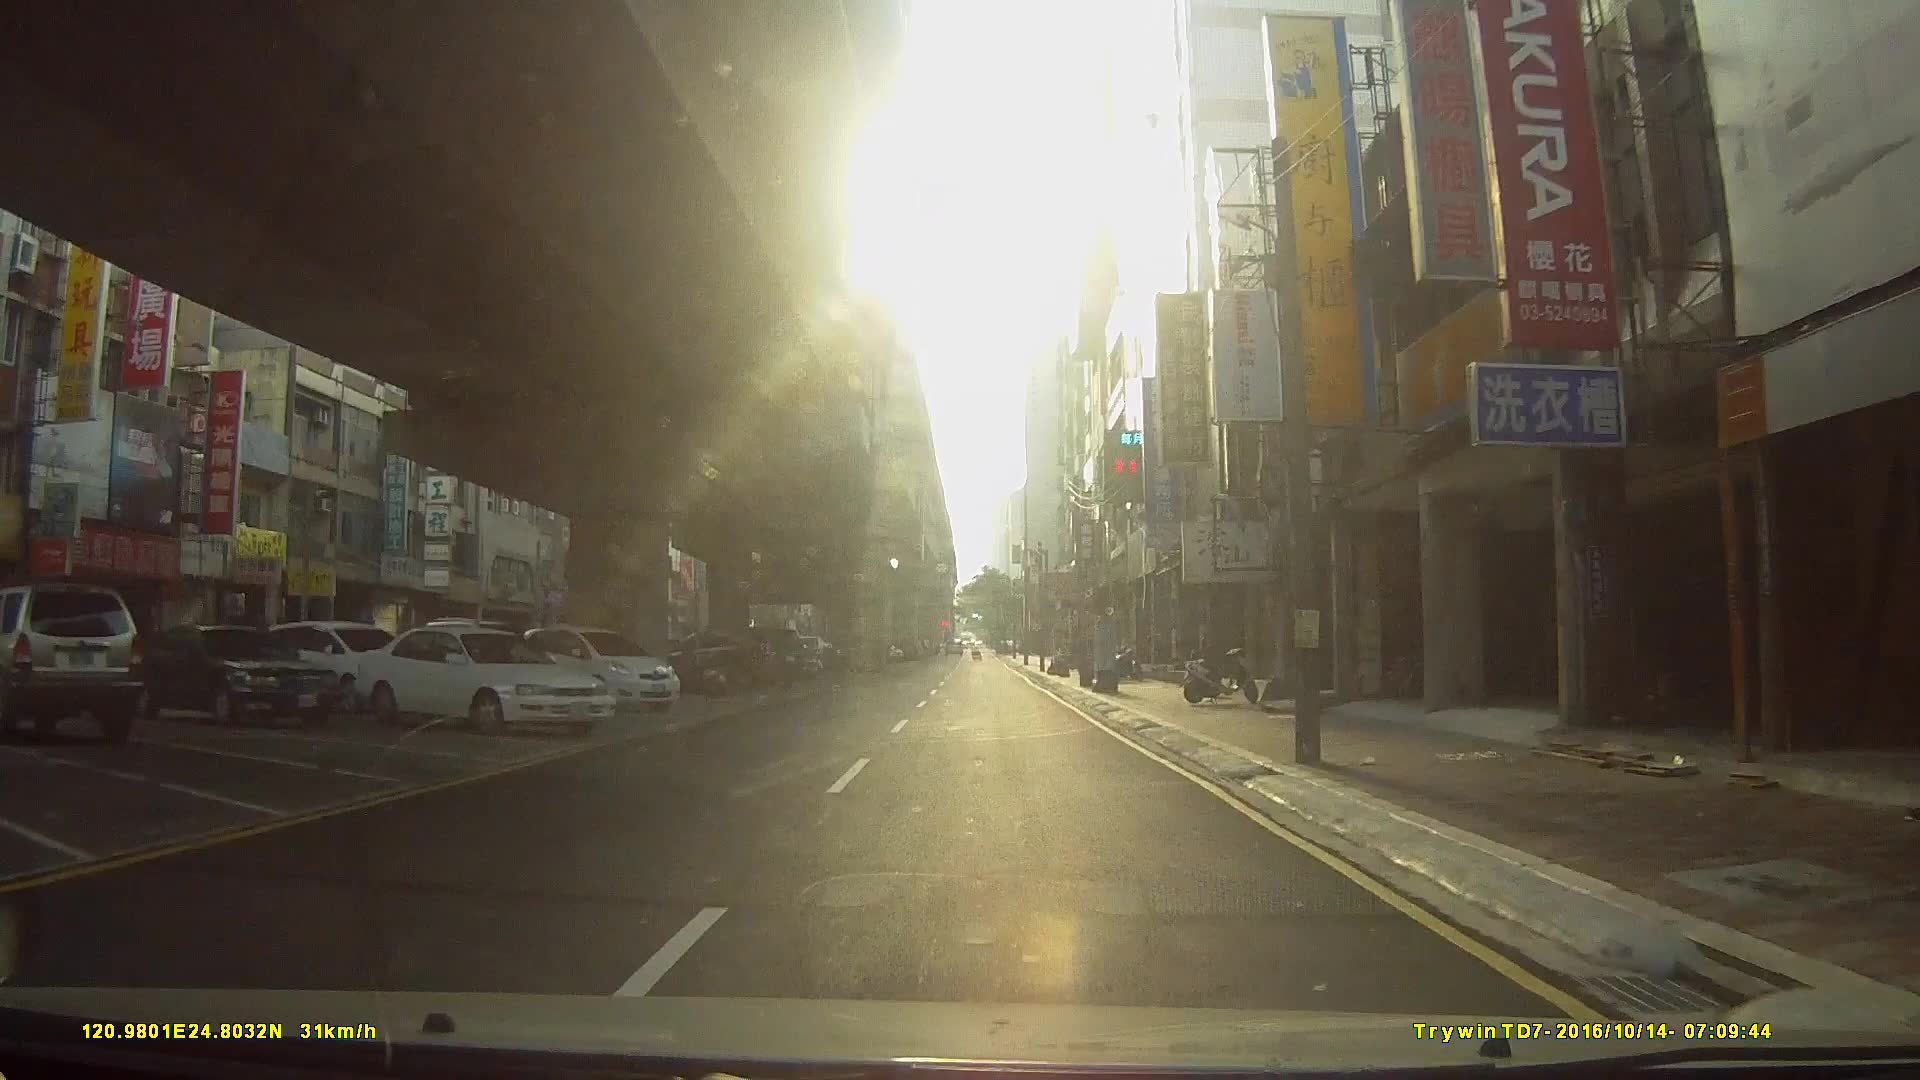vehicle: (349, 622, 615, 737), (120, 622, 345, 725), (0, 582, 142, 740), (512, 622, 678, 713), (260, 618, 411, 709)
